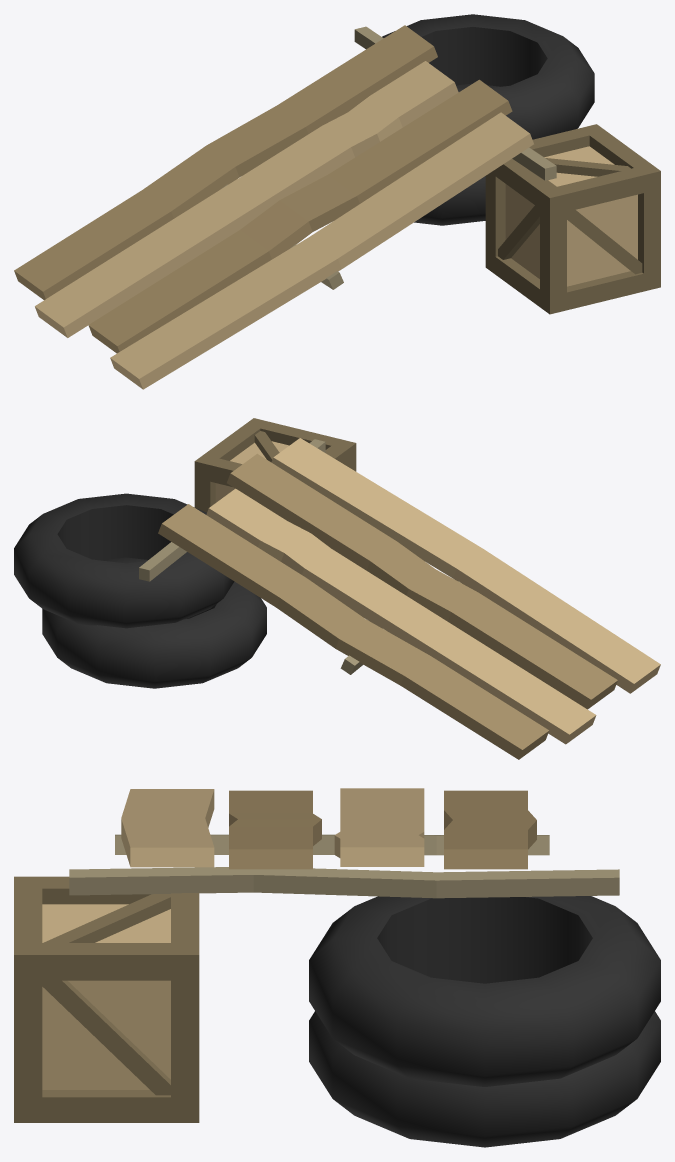
Rendered from sprimgboard_sand.fbx.
3 views of the same model, one above another, from view 1: azimuth 30°, elevation 25°; view 2: azimuth 150°, elevation 25°; view 3: azimuth 270°, elevation 25° (orthographic). The views are drawn at different scales.
Parts seen in each view (by area): view 1: sprimgboard_sand; view 2: sprimgboard_sand; view 3: sprimgboard_sand.
Boxes of the visible parts, x1,y1,x2,y2 form: sprimgboard_sand: [14, 14, 660, 389]; sprimgboard_sand: [14, 418, 660, 759]; sprimgboard_sand: [14, 788, 660, 1147].
Bounding box in the file's own units: 496 × 141 × 341.
